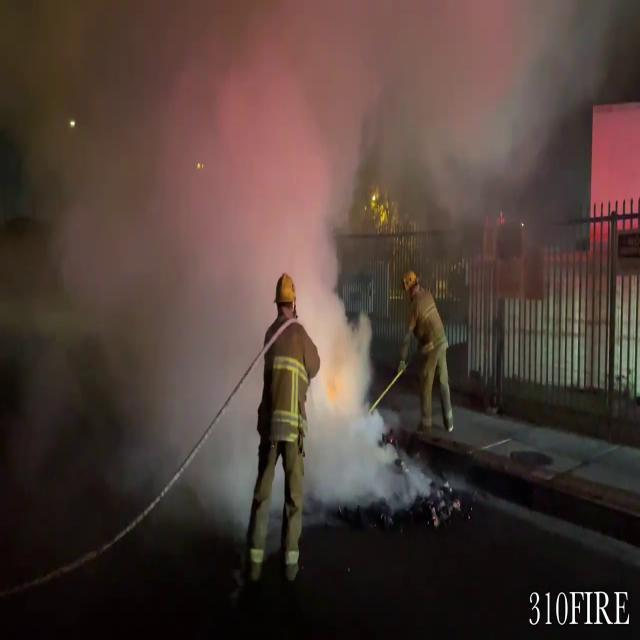Smoke: (0, 0, 410, 521)
